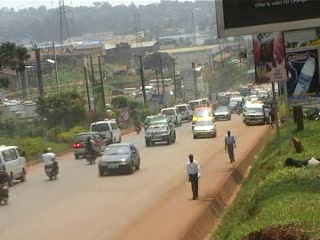Car: (96, 139, 141, 177), (143, 119, 177, 147), (189, 115, 218, 141), (212, 105, 232, 122), (142, 112, 156, 131)
Motorcycle: (40, 144, 61, 181), (80, 134, 99, 165), (0, 162, 12, 205), (130, 112, 143, 134), (235, 98, 243, 118)
